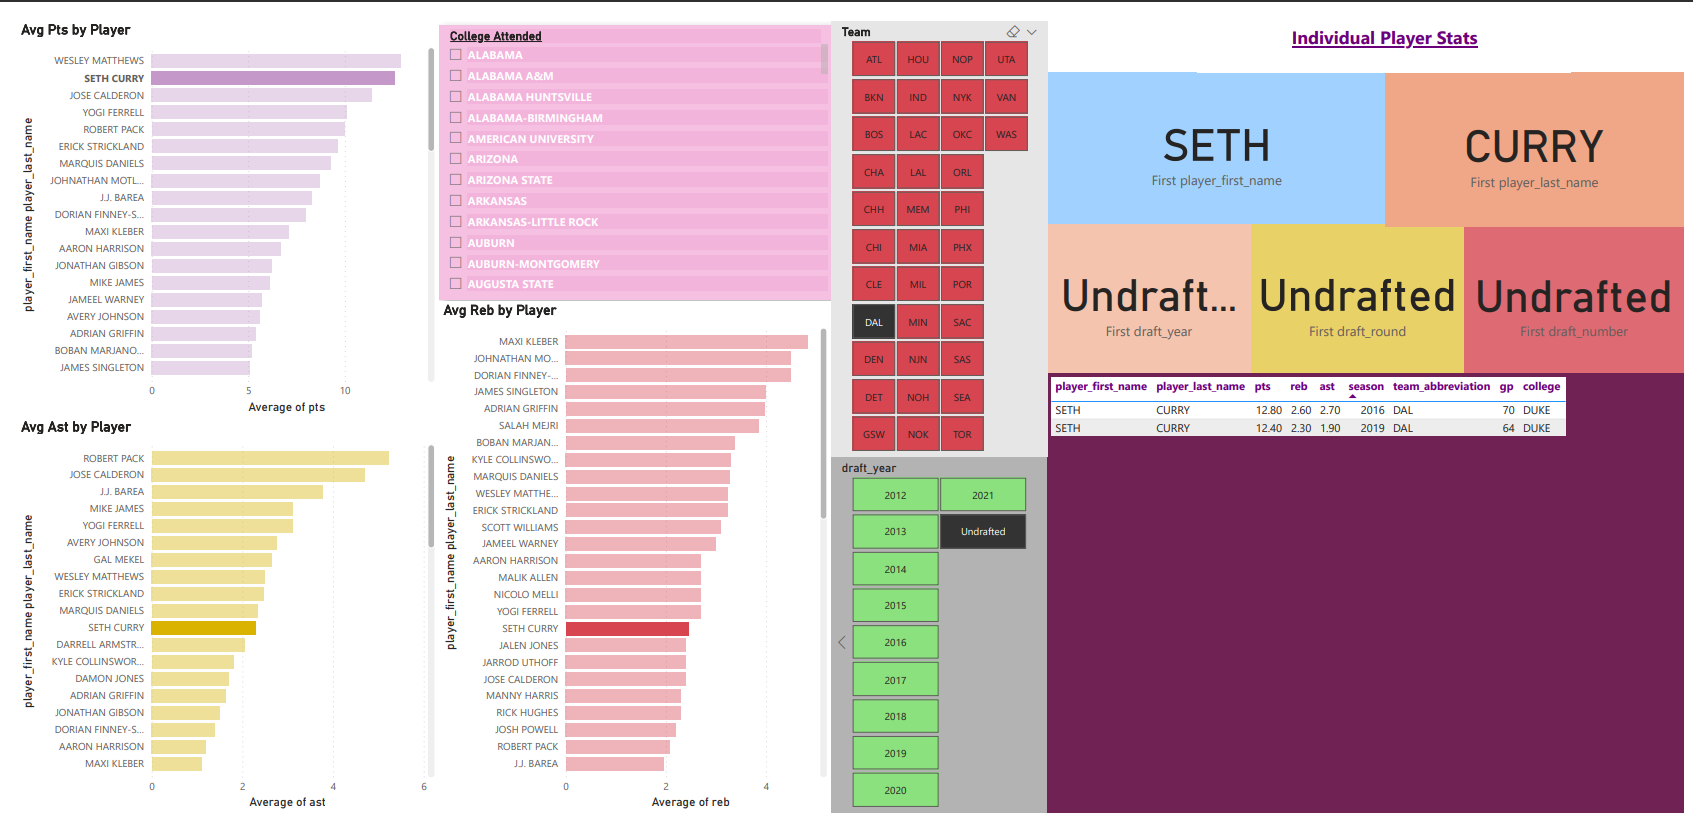

The page's visual inventory and layout, read from the dashboard file:
{"tool":"powerbi","page":{"name":"College_Team_NBA_Stats","canvas":[2000,950],"ordinal":0},"visuals":[{"type":"slicer","fields":{"Values":["players.college"]},"box":[506,5.8,471.2,330.3],"z":0},{"type":"barChart","title":"Avg Pts by Player","fields":{"Category":["players.player_first_name","players.player_last_name"],"Y":["player_stats_info.pts"]},"box":[0,0,506.4,476.4],"z":1000},{"type":"barChart","title":"Avg Ast by Player","fields":{"Category":["players.player_first_name","players.player_last_name"],"Y":["player_stats_info.ast"]},"box":[0,476.4,506.4,474.2],"z":2000},{"type":"barChart","title":"Avg Reb by Player","fields":{"Category":["players.player_first_name","players.player_last_name"],"Y":["player_stats_info.reb"]},"box":[506.4,336.9,470,613.7],"z":3000},{"type":"card","fields":{"Values":["players.draft_round"]},"box":[1480,241.7,256.7,181.7],"z":4000},{"type":"card","fields":{"Values":["players.draft_year"]},"box":[1236.7,241.7,243.3,181.7],"z":5000},{"type":"card","fields":{"Values":["players.draft_number"]},"box":[1736.7,245,263.3,178.3],"z":6000},{"type":"tableEx","fields":{"Values":["players.player_first_name","players.player_last_name","player_stats_info.pts","player_stats_info.reb","player_stats_info.ast","player_stats_info.season","player_stats_info.team_abbreviation","player_stats_info.gp","players.college"]},"box":[1235,423.3,765,526.7],"z":7000},{"type":"card","fields":{"Values":["players.player_first_name"]},"box":[1236.1,62.2,405.6,182.4],"z":8000},{"type":"card","fields":{"Values":["players.player_last_name"]},"box":[1641.6,62.2,358.4,184.5],"z":9000},{"type":"slicer","fields":{"Values":["player_stats_info.team_abbreviation"]},"box":[976.7,0,260,523.3],"z":10000},{"type":"textbox","box":[1416.3,0,448.5,62.2],"z":11000},{"type":"slicer","fields":{"Values":["players.draft_year"]},"box":[976.7,523.3,258.3,426.7],"z":12000}]}

Visuals, with their boxes in screenshot pixels (x1, y1, x2, y2), scaled from the page's 2000x950 canvas onto the 1693x828 screenshot:
slicer - players.college: detection(428, 5, 827, 293)
"Avg Pts by Player" barChart: detection(0, 0, 429, 415)
"Avg Ast by Player" barChart: detection(0, 415, 429, 827)
"Avg Reb by Player" barChart: detection(429, 294, 827, 827)
card - players.draft_round: detection(1253, 211, 1470, 369)
card - players.draft_year: detection(1047, 211, 1253, 369)
card - players.draft_number: detection(1470, 214, 1692, 369)
tableEx - players.player_first_name x players.player_last_name: detection(1045, 369, 1692, 827)
card - players.player_first_name: detection(1046, 54, 1390, 213)
card - players.player_last_name: detection(1390, 54, 1692, 215)
slicer - player_stats_info.team_abbreviation: detection(827, 0, 1047, 456)
textbox: detection(1199, 0, 1579, 54)
slicer - players.draft_year: detection(827, 456, 1045, 827)
